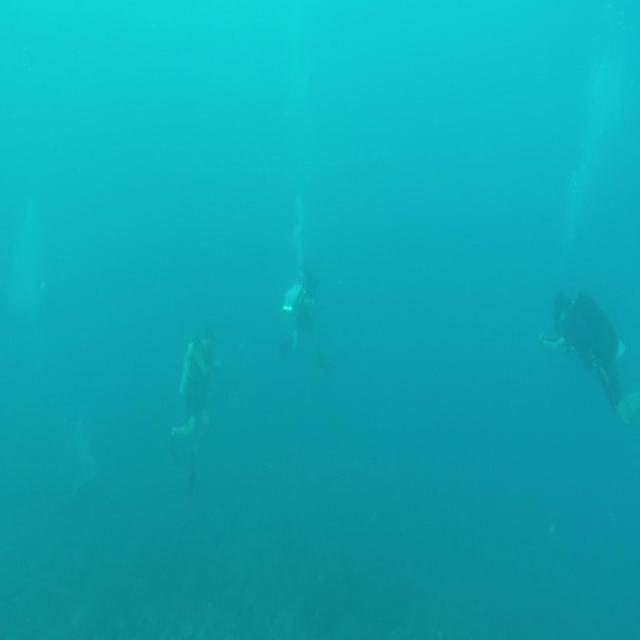human: (540, 286, 638, 427), (169, 324, 222, 490), (279, 260, 332, 375)
